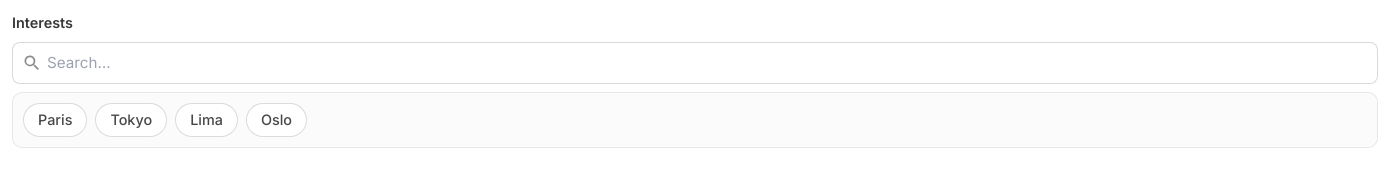
SearchablePicker › shows the empty text when the filter matches nothing
This screenshot has width=1390, height=172.
Type "zzzz" into the field labelled "Interests" at x=695, y=63, box [12,42,1378,84]
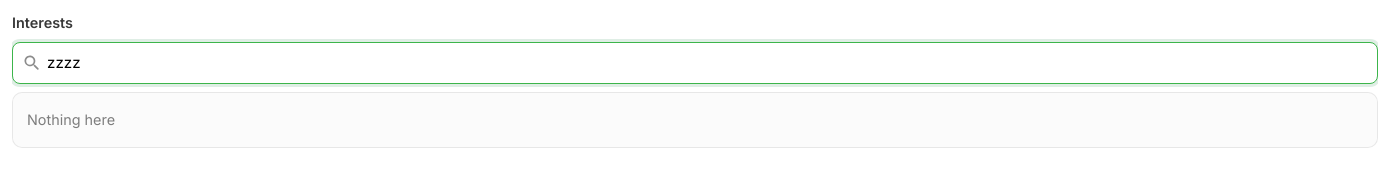
Check: the text "Nothing here" is shown, box [27,111,115,128]
Check: no options are shown
